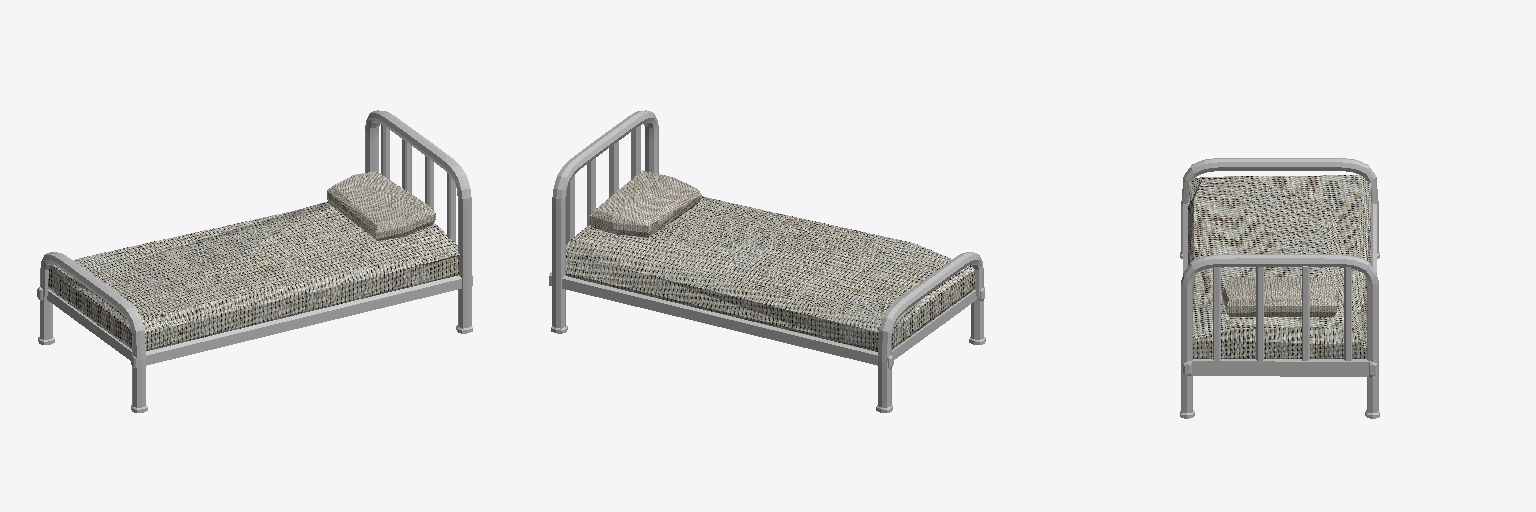
3 views of the same model, side by side, from view 1: azimuth 30°, elevation 25°; view 2: azimuth 150°, elevation 25°; view 3: azimuth 270°, elevation 25° (orthographic).
Visible parts, largest first — view 1: matress_Cube.001, Metal_Bed_Cube.003, pilow_Cube.000; view 2: matress_Cube.001, Metal_Bed_Cube.003, pilow_Cube.000; view 3: matress_Cube.001, Metal_Bed_Cube.003, pilow_Cube.000.
Boxes of the visible parts, x1,y1,x2,y2 form: matress_Cube.001: [48, 201, 459, 350]; Metal_Bed_Cube.003: [37, 110, 472, 412]; pilow_Cube.000: [327, 171, 435, 240]; matress_Cube.001: [566, 196, 975, 351]; Metal_Bed_Cube.003: [549, 110, 985, 412]; pilow_Cube.000: [589, 170, 701, 237]; matress_Cube.001: [1188, 175, 1370, 358]; Metal_Bed_Cube.003: [1180, 158, 1379, 418]; pilow_Cube.000: [1222, 277, 1338, 316].
Size of the model in its own units: 2.79 by 1.25 by 1.42.
Materials: 3 (2 with a texture image).